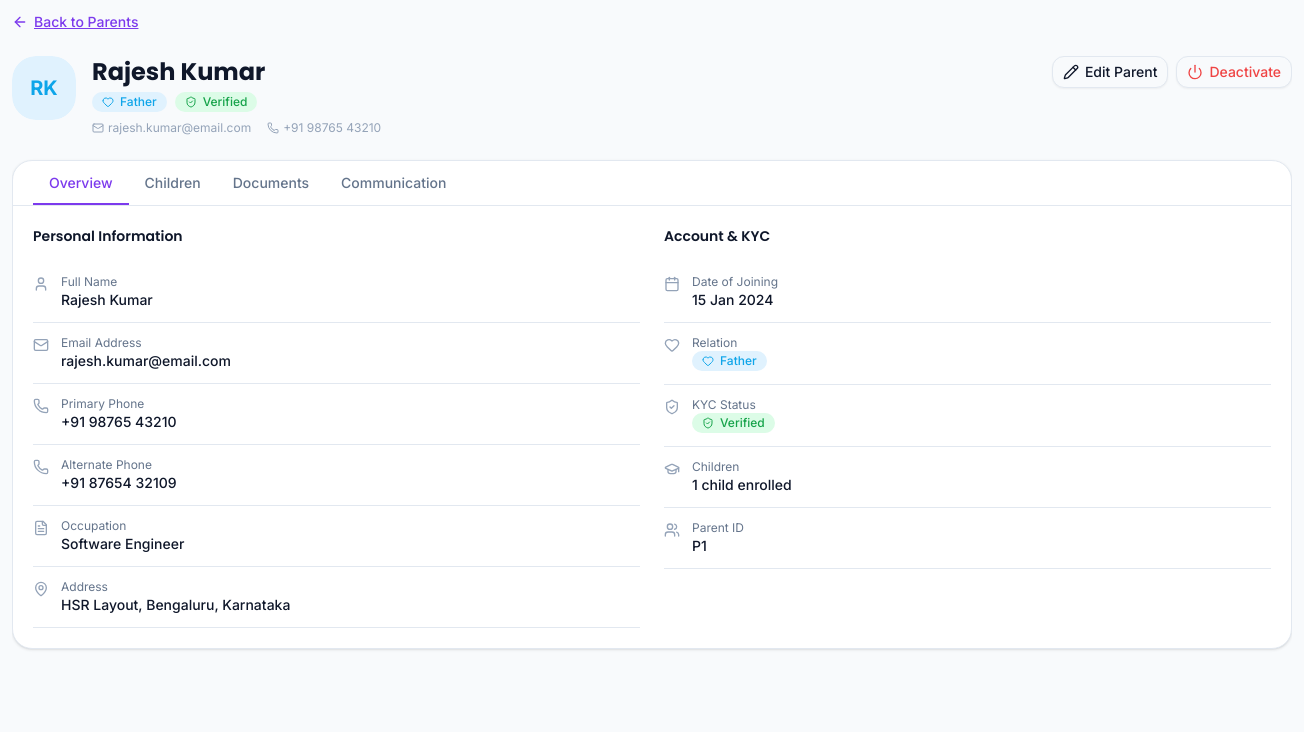
ParentDetailPage › Tabs › switches to Documents tab when clicked
This screenshot has width=1304, height=732.
Click the button "Documents" at (271, 183), box [217,161,325,205]
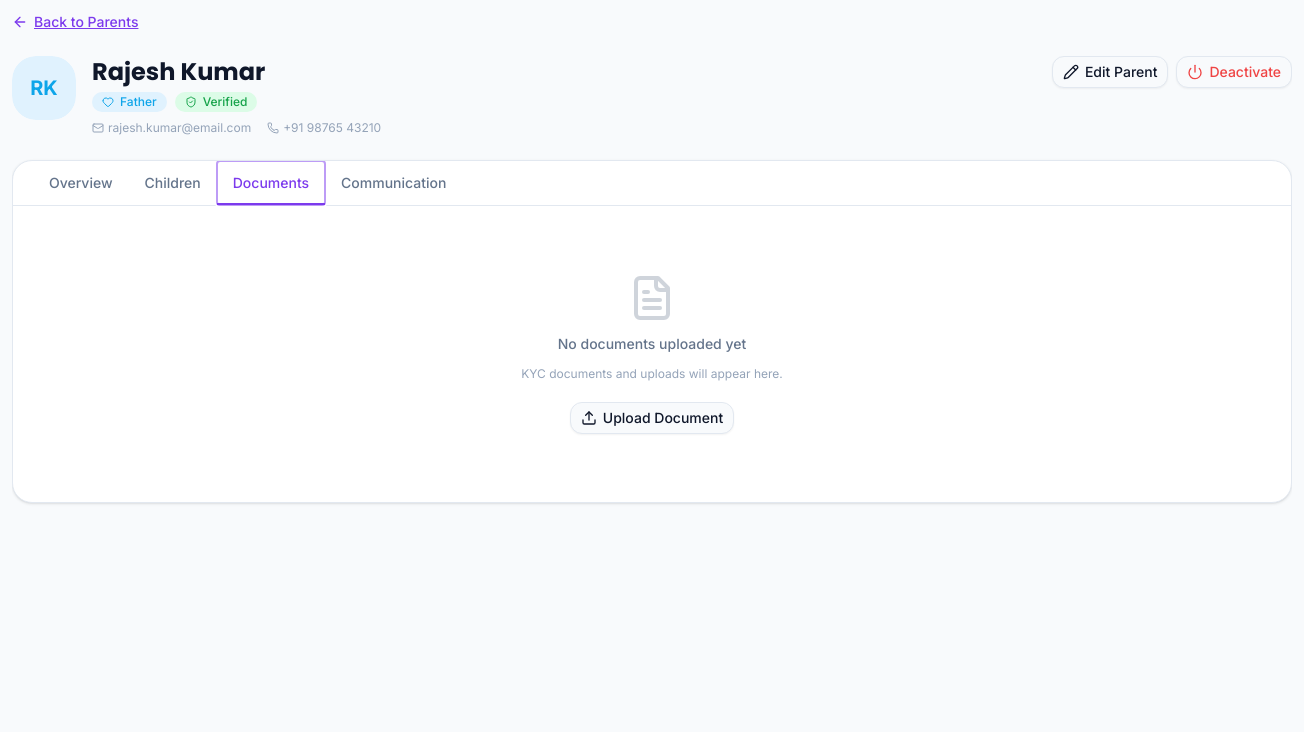
Expected: the text "No documents uploaded yet" is shown, [558,334,746,354]
Expected: the button "Upload Document" is shown, [570,402,734,434]
